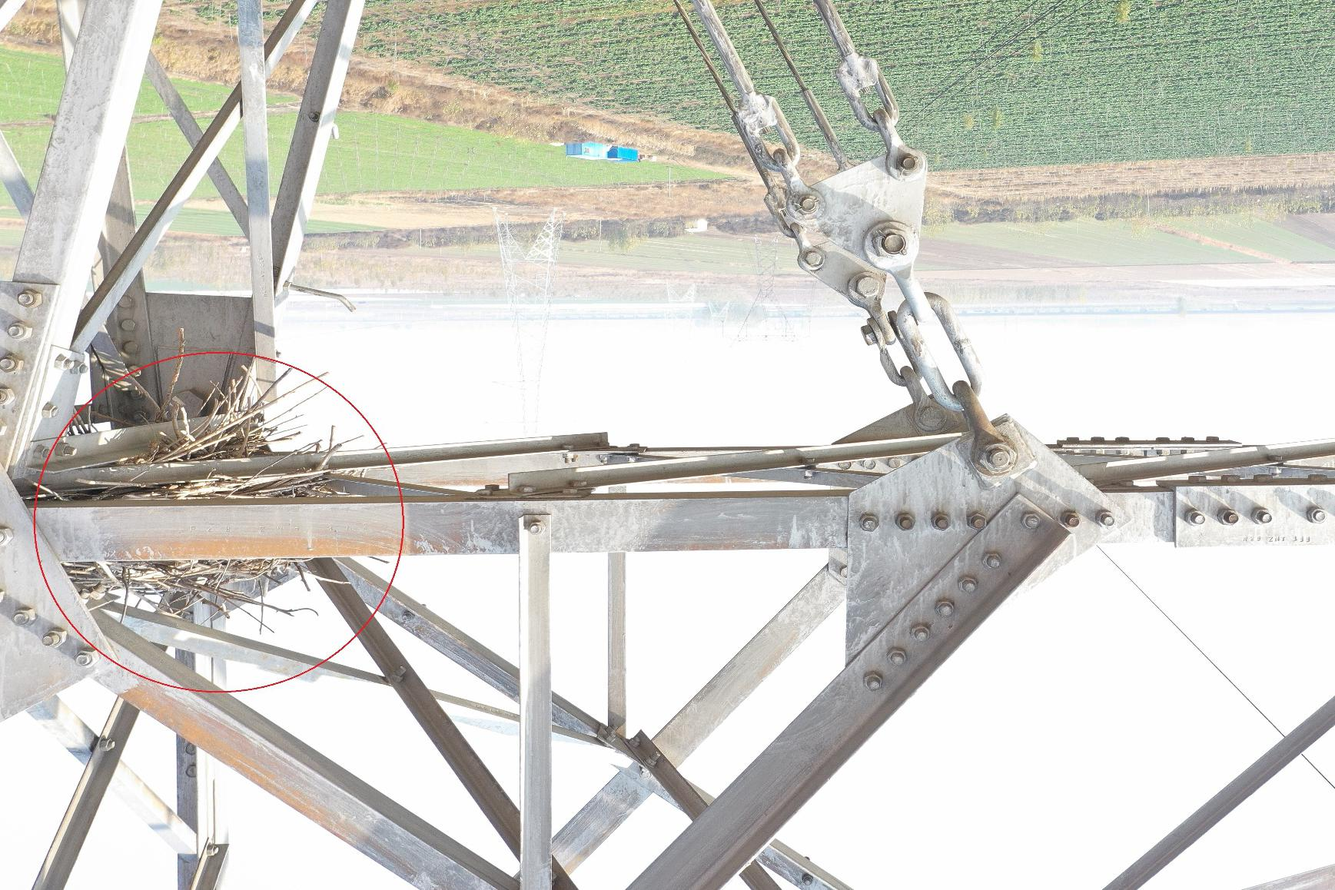nest: (27, 350, 377, 617)
